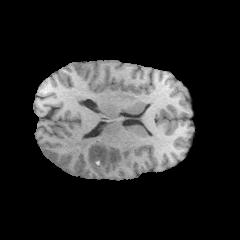glioma: (56, 132, 132, 178)
